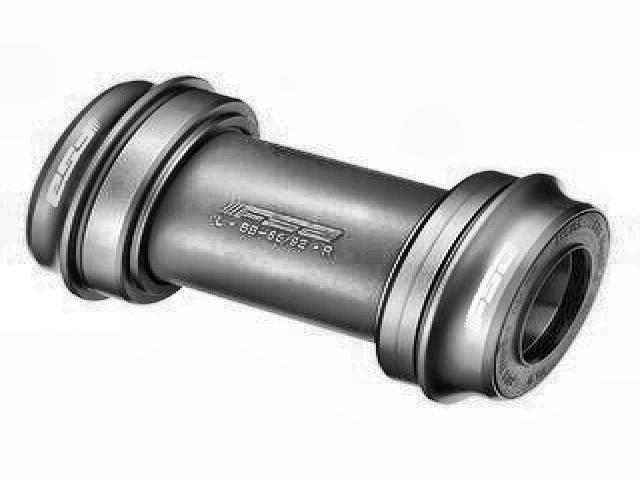bottom_bracket: (24, 71, 612, 410)
